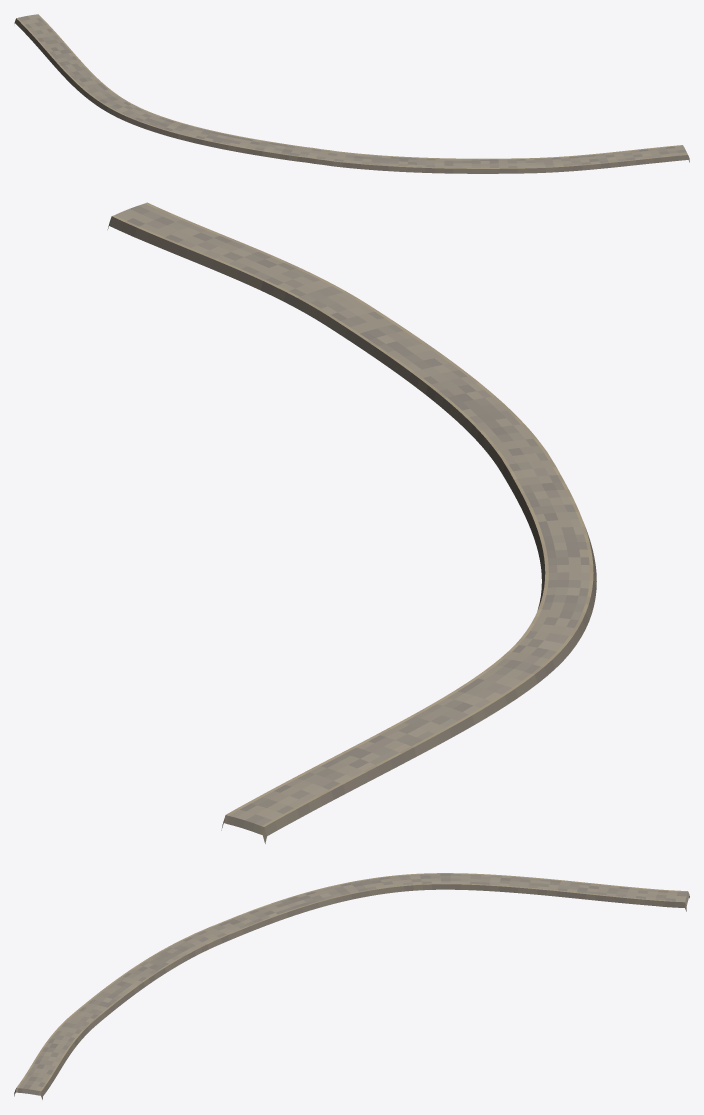
The model's file is road_mill_lane.glb.
3 renders of one model, top to bottom at view 1: azimuth 30°, elevation 25°; view 2: azimuth 150°, elevation 25°; view 3: azimuth 270°, elevation 25°, orthographic. The views are drawn at different scales.
Parts seen in each view (by area): view 1: road_mill_lane; view 2: road_mill_lane; view 3: road_mill_lane.
Part boxes in pixels (bbox=[...]): road_mill_lane: bbox=[14, 14, 689, 173]; road_mill_lane: bbox=[107, 202, 596, 843]; road_mill_lane: bbox=[14, 873, 689, 1099].
Bounding box in the file's own units: 154 × 4.97 × 205.
Materials: 1 (1 with a texture image).
